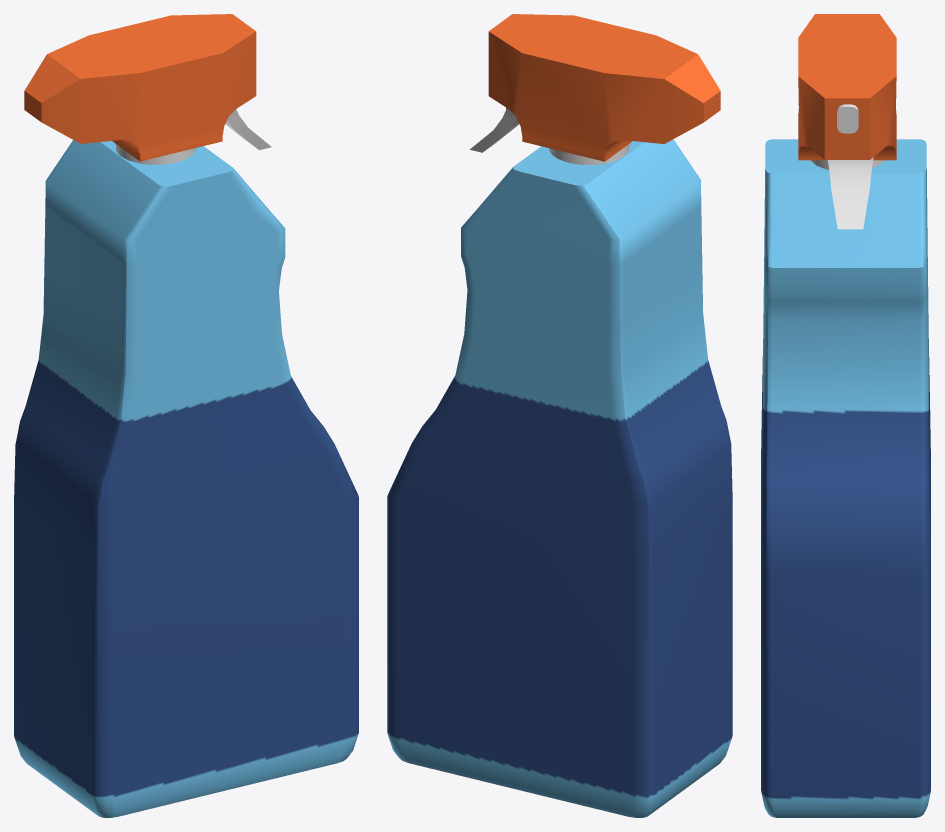
File: SM_Bottle_13.fbx
3 renders of one model, left to right at view 1: azimuth 30°, elevation 25°; view 2: azimuth 150°, elevation 25°; view 3: azimuth 270°, elevation 25°, orthographic. The views are drawn at different scales.
Parts seen in each view (by area): view 1: SM_Bottle_13_LOD0; view 2: SM_Bottle_13_LOD0; view 3: SM_Bottle_13_LOD0.
Part boxes in pixels (<box>): SM_Bottle_13_LOD0: <box>14,14,358,817</box>; SM_Bottle_13_LOD0: <box>387,14,732,817</box>; SM_Bottle_13_LOD0: <box>761,14,930,817</box>.
Bounding box in the file's own units: 11.99 × 6.47 × 28.99.
1 material, 1 textured.
